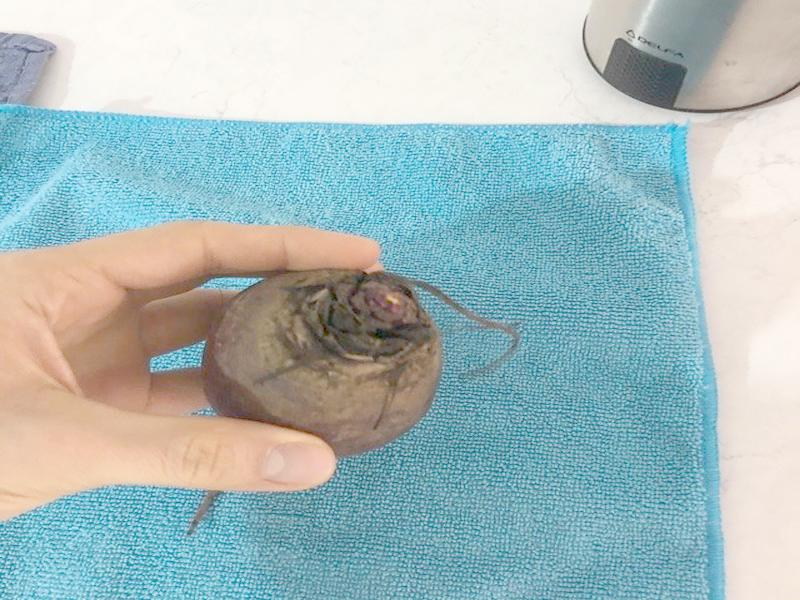Beet: (188, 270, 516, 534)
